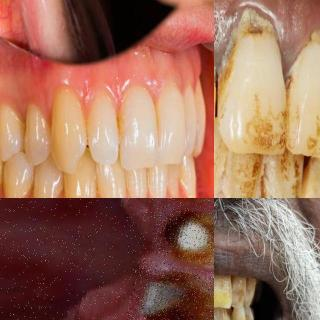Gum Swelling: (214, 0, 269, 67), (268, 10, 320, 71), (133, 61, 193, 104), (95, 73, 136, 112), (61, 79, 96, 120)
calculus: (216, 3, 285, 79), (301, 13, 320, 62), (215, 313, 231, 320)
maligned: (226, 306, 235, 320)
plaque: (249, 158, 281, 198), (214, 142, 239, 192)
stains: (219, 26, 283, 148), (285, 64, 320, 160), (263, 150, 303, 198), (228, 150, 264, 198), (305, 160, 320, 198), (244, 310, 256, 320)
